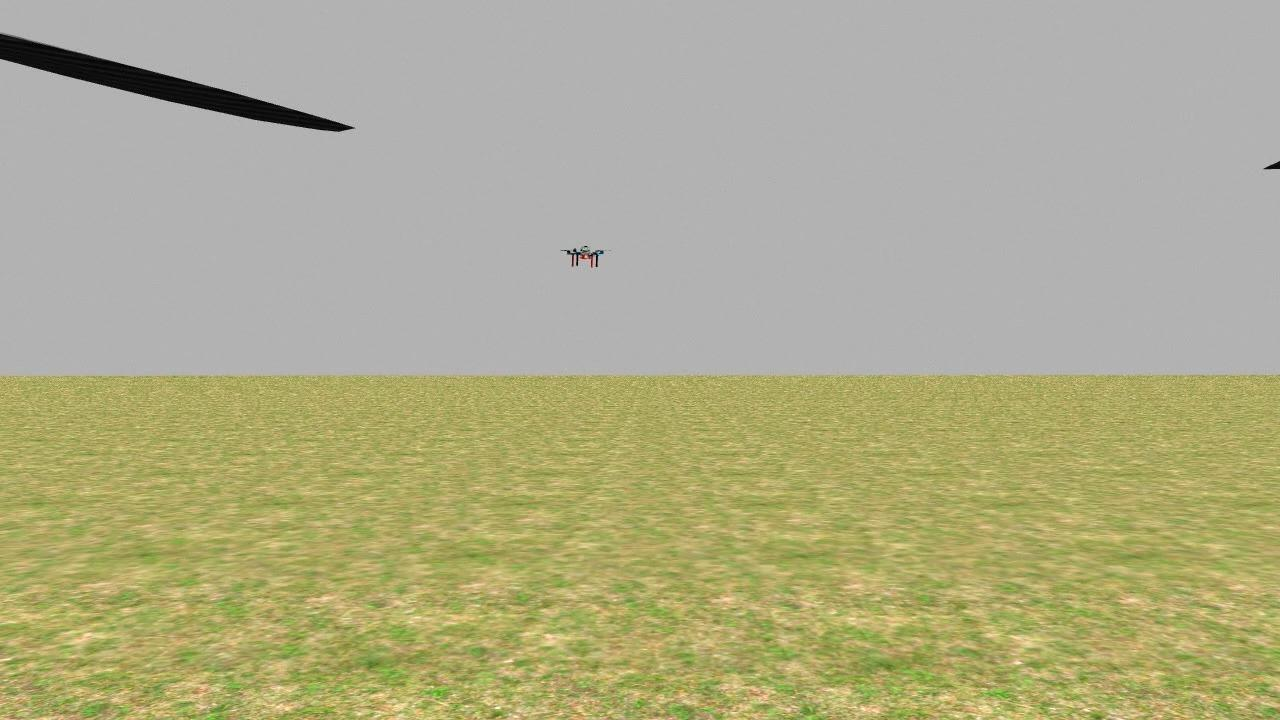UAV: (561, 240, 605, 278)
